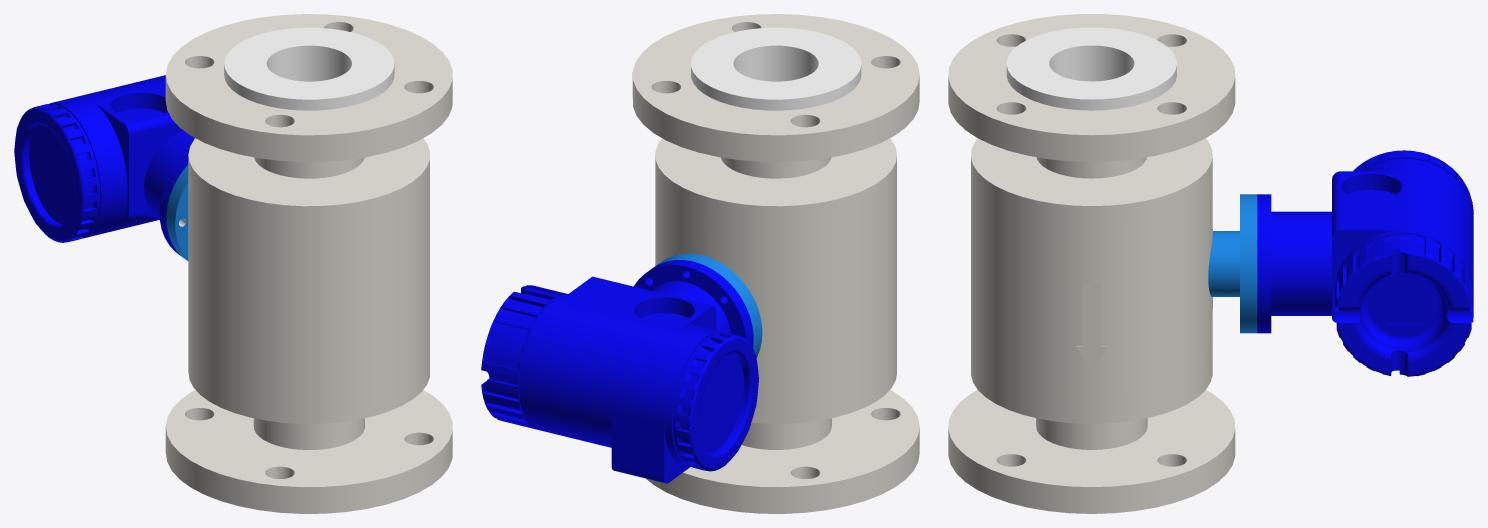
The model's file is res_1789453462964_rujp4_电磁流量计.glb.
3 views of the same model, side by side, from view 1: azimuth 30°, elevation 25°; view 2: azimuth 150°, elevation 25°; view 3: azimuth 270°, elevation 25° (orthographic).
Visible parts, largest first — view 1: Flow_Meter, Transmitter_screen (×2); view 2: Flow_Meter, Transmitter_screen (×2); view 3: Flow_Meter, Transmitter_screen (×2).
Part boxes in pixels (x1,y1,x2,y2): Flow_Meter: (165,14,452,513); Transmitter_screen (×2): (14,75,194,257); Flow_Meter: (632,14,919,513); Transmitter_screen (×2): (481,260,758,483); Flow_Meter: (948,14,1257,513); Transmitter_screen (×2): (1257,150,1473,376).
Size of the model in its own units: 0.1648 by 0.254 by 0.3018.
